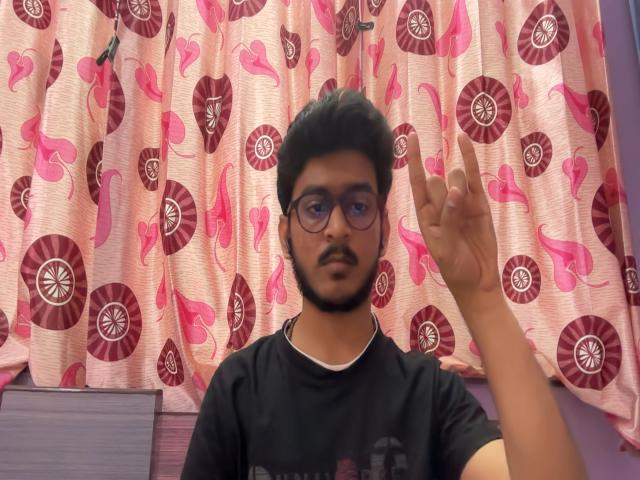I Love You: (394, 117, 516, 314)
